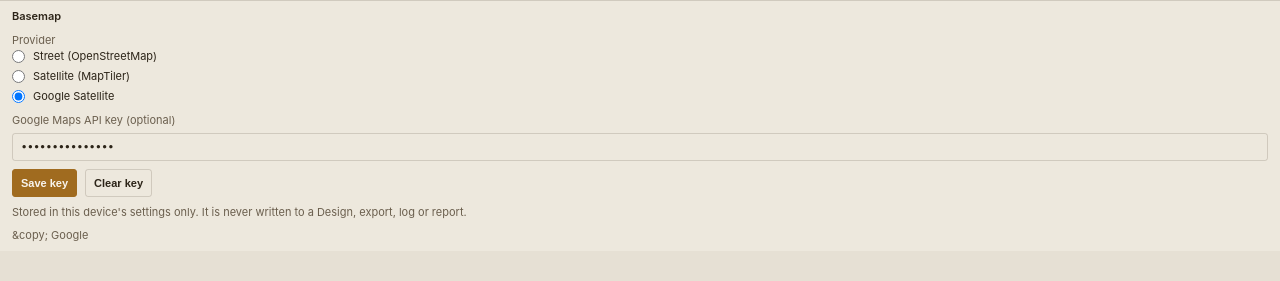
it: basemap provider settings › clears the key back to the keyless path
Expected: the text "Enter a Google Maps API key to load the official Google tiles." is not shown
Click the button "Clear key" at (119, 183), box [85, 169, 152, 197]
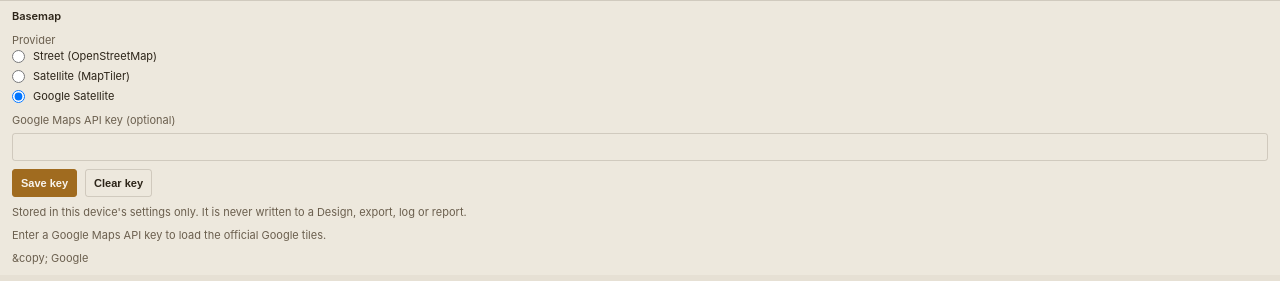
Expected: the text "Enter a Google Maps API key to load the official Google tiles." is shown, [12, 228, 326, 242]
